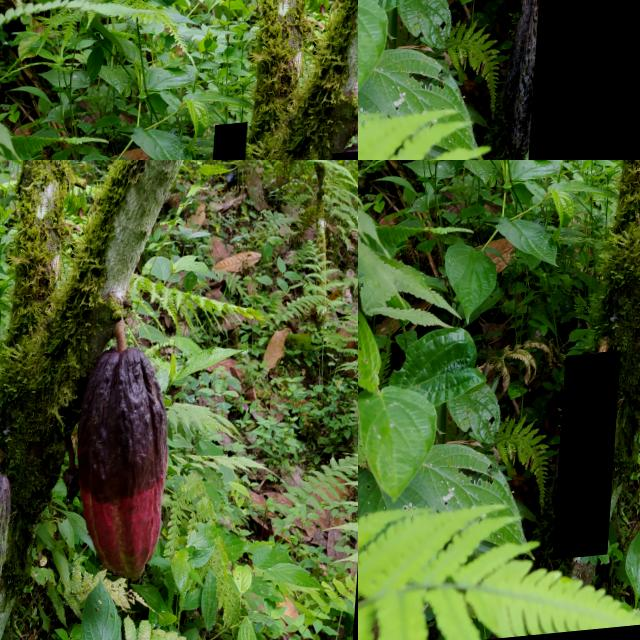Fitoftora: (534, 0, 640, 160), (560, 356, 626, 564)
Sana: (214, 127, 250, 160)
